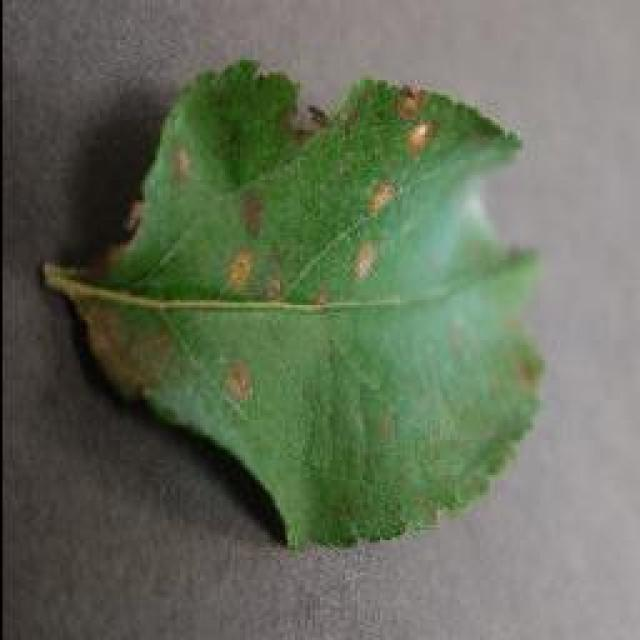apple healthy: (40, 55, 548, 550)
